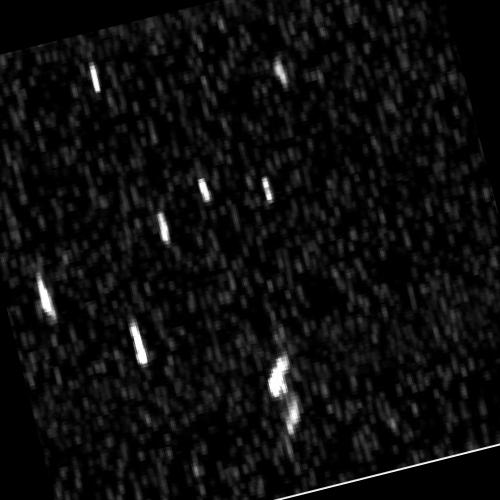ship: (128, 316, 150, 366), (267, 353, 290, 399), (35, 273, 56, 321), (282, 395, 302, 436), (156, 209, 172, 244), (272, 57, 289, 89), (88, 62, 102, 94), (261, 175, 276, 204), (197, 176, 212, 203)
